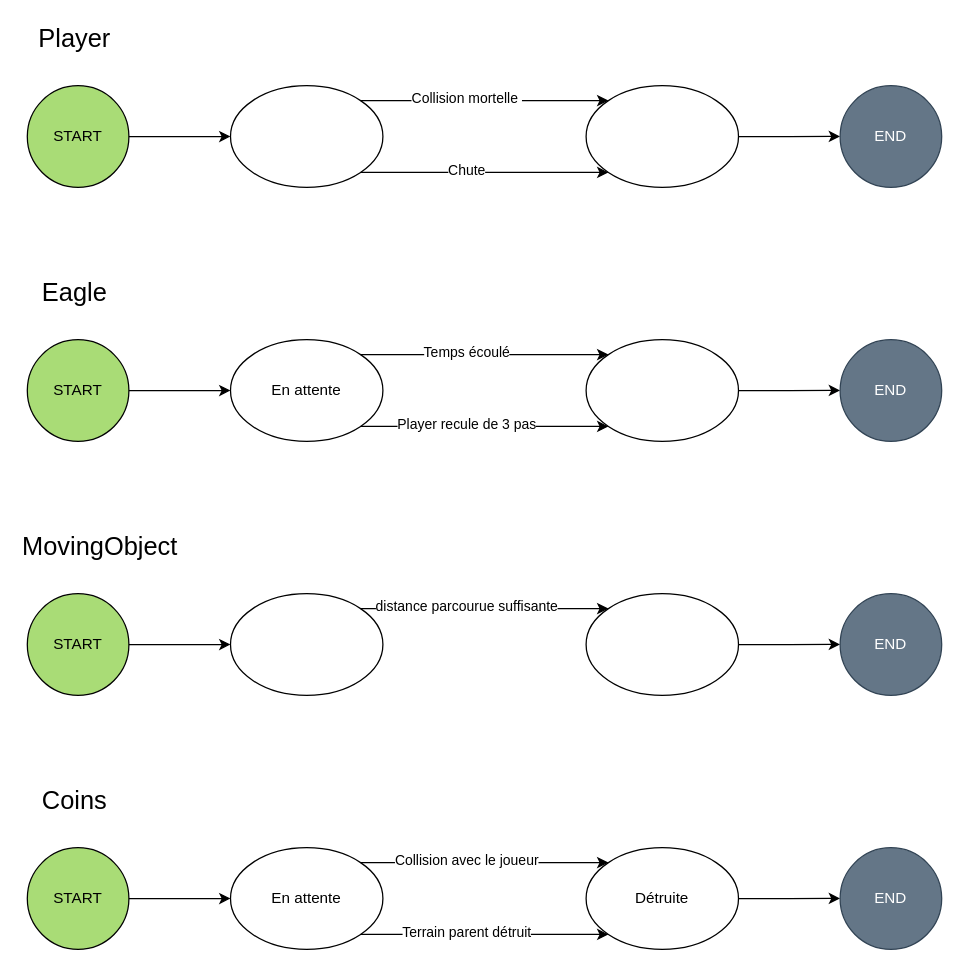
Some shapes in this 964 by 972 pixel diagram are drawn without their labels. The shapes that lost their labels are listed below. From the top down, each one's centre as x and y in pixels, then its label:
At (306,135): "En vie".
At (662,135): "Mort".
At (662,389): "Chasse".
At (306,643): "En route".
At (662,643): "Immobile".
